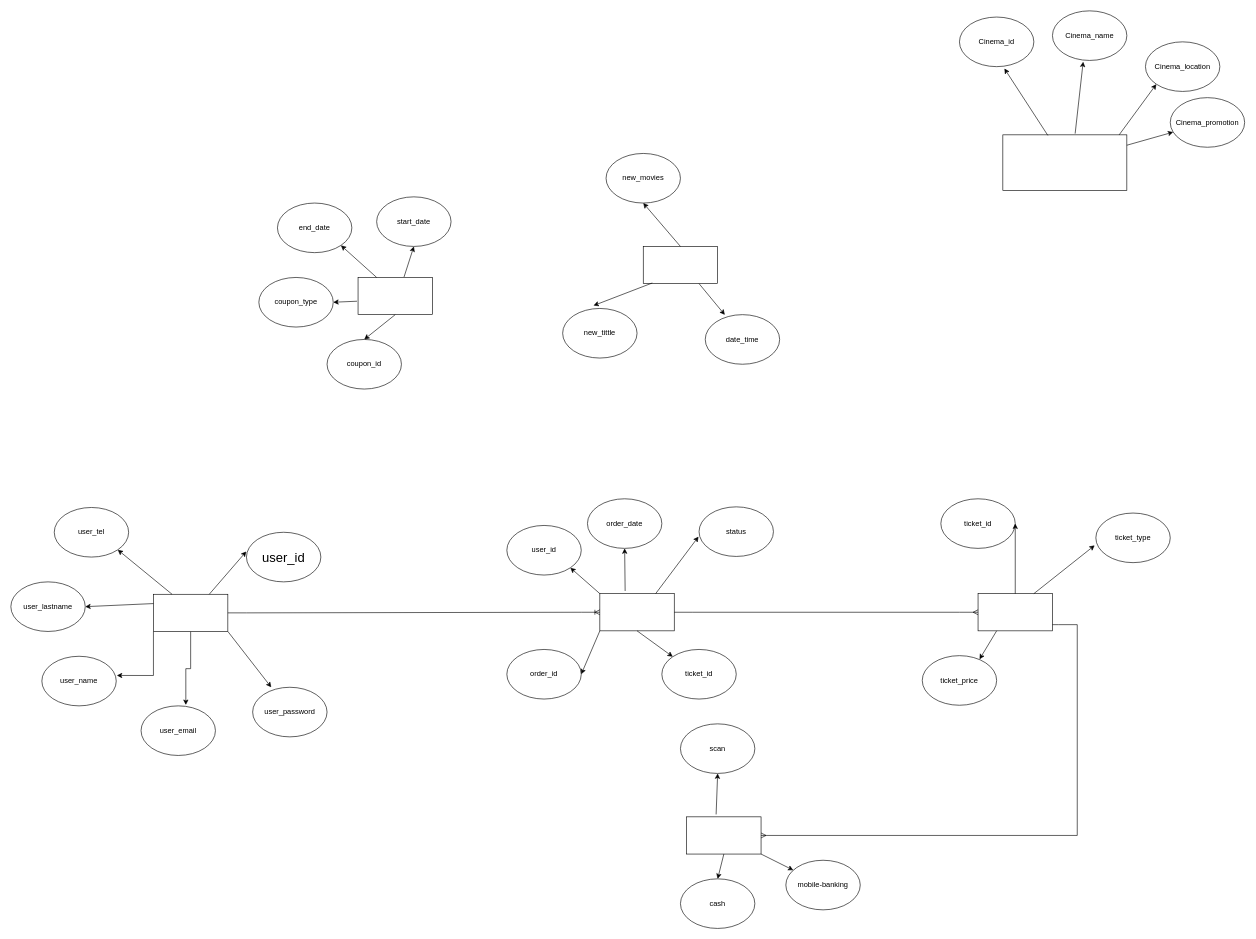
This 1256x939 diagram has some shape labels left out. Each missing label, with the centre of its shape:
"Cinema" belongs at (1064,162).
"discount" belongs at (394,296).
"news" belongs at (680,265).
"order" belongs at (636,612).
"payment" belongs at (723,835).
"ticket" belongs at (1014,612).
"User" belongs at (190,612).
